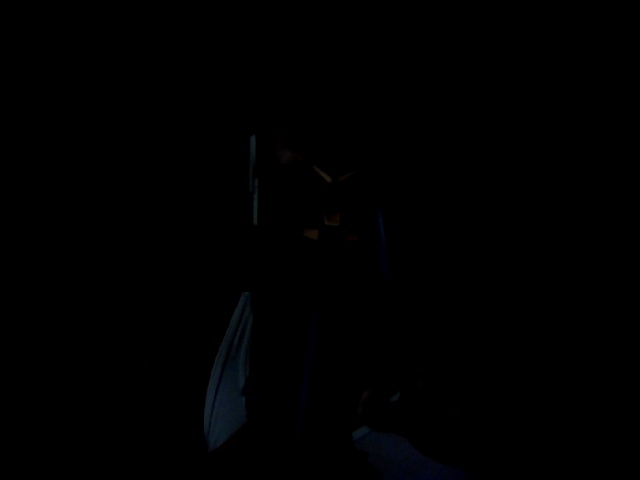Mk-11-Titans: (235, 99, 451, 411)
